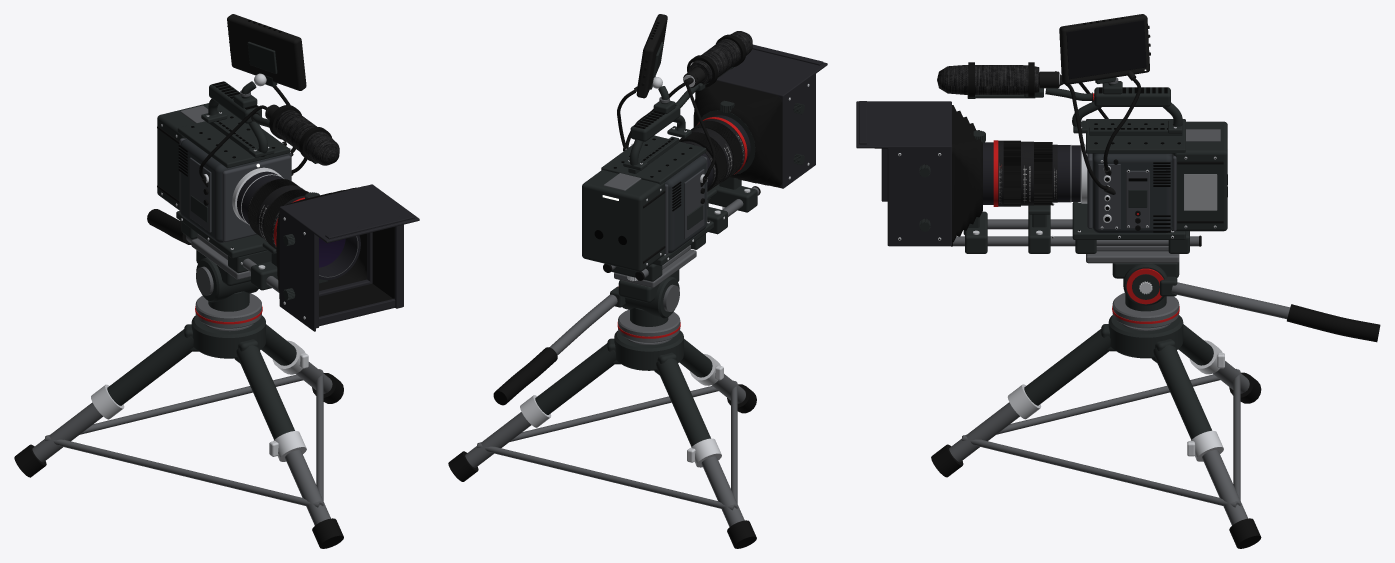
The model's file is camera_with_tripod.glb.
3 renders of one model, left to right at view 1: azimuth 30°, elevation 25°; view 2: azimuth 150°, elevation 25°; view 3: azimuth 270°, elevation 25°, orthographic. The views are drawn at different scales.
Parts seen in each view (by area): view 1: matte_box__matte, tripod__dark_steel, tripod__alu_black, body__alu_black, monitor__plastic, body__panel, matte_box__flock, tripod__rubber, baseplate_rods__alu_black, body__body, handle__alu_black, tripod__steel (+10 smaller); view 2: tripod__dark_steel, body__alu_black, tripod__alu_black, matte_box__matte, matte_box__bellows, tripod__rubber, baseplate_rods__alu_black, handle__alu_black, body__body, tripod__steel, lens__rubber, mic__foam (+7 smaller); view 3: tripod__dark_steel, matte_box__matte, tripod__alu_black, body__alu_black, baseplate_rods__alu_black, monitor__screen, tripod__rubber, body__body, matte_box__bellows, body__panel, handle__alu_black, mic__foam (+11 smaller).
Boxes of the visible parts, x1,y1,x2,y2 form: matte_box__matte: [279, 184, 419, 331]; tripod__dark_steel: [32, 235, 332, 525]; tripod__alu_black: [107, 250, 296, 439]; body__alu_black: [157, 103, 289, 222]; monitor__plastic: [227, 14, 306, 90]; body__panel: [179, 138, 291, 242]; matte_box__flock: [319, 227, 394, 316]; tripod__rubber: [14, 209, 343, 548]; baseplate_rods__alu_black: [176, 211, 327, 290]; body__body: [180, 139, 290, 242]; handle__alu_black: [201, 81, 285, 157]; tripod__steel: [91, 340, 308, 461]; tripod__dark_steel: [465, 249, 745, 526]; body__alu_black: [582, 135, 706, 271]; tripod__alu_black: [535, 269, 712, 446]; matte_box__matte: [698, 44, 827, 188]; matte_box__bellows: [693, 80, 782, 187]; tripod__rubber: [448, 347, 756, 548]; baseplate_rods__alu_black: [611, 173, 757, 281]; handle__alu_black: [623, 83, 708, 170]; body__body: [665, 156, 706, 253]; tripod__steel: [520, 354, 723, 467]; lens__rubber: [679, 121, 742, 191]; mic__foam: [688, 31, 752, 84]; tripod__dark_steel: [949, 251, 1290, 525]; matte_box__matte: [856, 101, 951, 246]; tripod__alu_black: [1024, 262, 1213, 439]; body__alu_black: [1086, 119, 1227, 231]; baseplate_rods__alu_black: [963, 202, 1189, 253]; monitor__screen: [1066, 20, 1146, 79]; tripod__rubber: [931, 304, 1380, 548]; body__body: [1092, 153, 1172, 233]; matte_box__bellows: [952, 105, 982, 242]; body__panel: [1087, 153, 1176, 231]; handle__alu_black: [1024, 77, 1182, 133]; mic__foam: [937, 65, 1039, 94].
Size of the model in its own units: 0.5669 by 0.7674 by 0.7875.
Materials: 23 (5 with a texture image).
